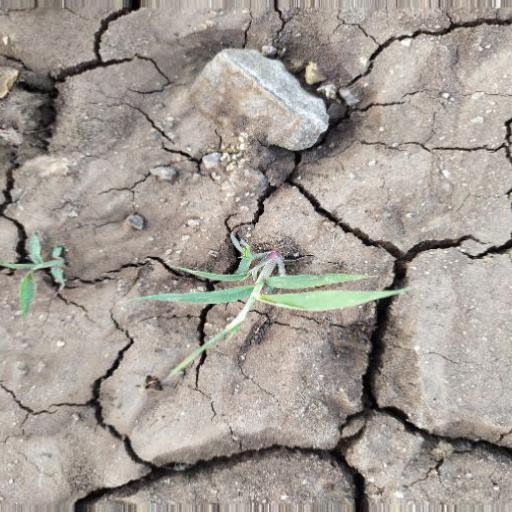weed: (127, 231, 400, 395)
